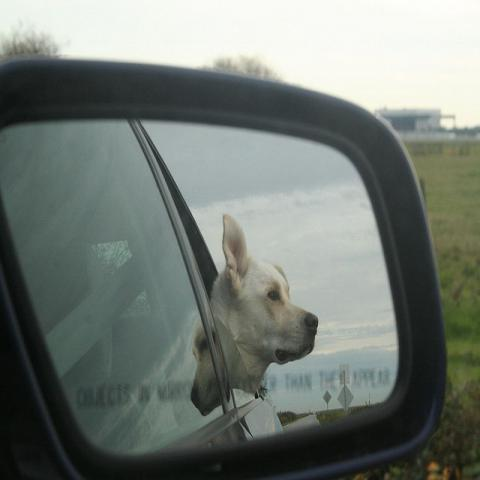car: (0, 63, 445, 473)
